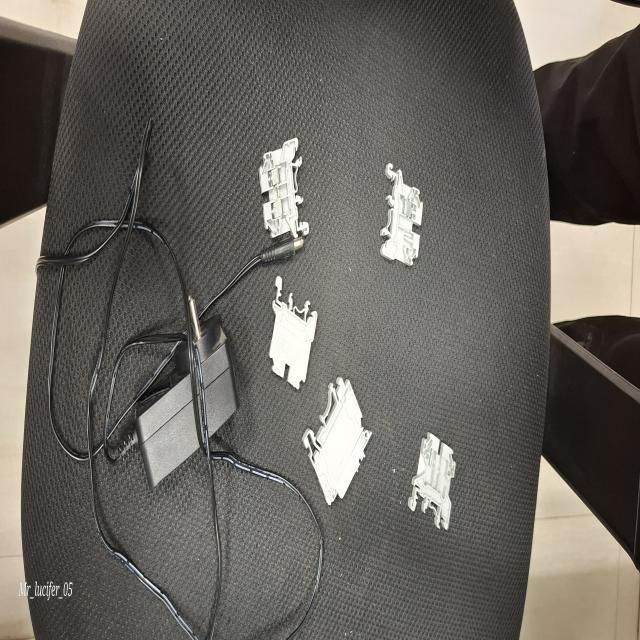Inverted: (266, 275, 318, 392)
Pass: (256, 134, 310, 244)
Reject: (406, 429, 456, 535), (378, 161, 425, 267)
